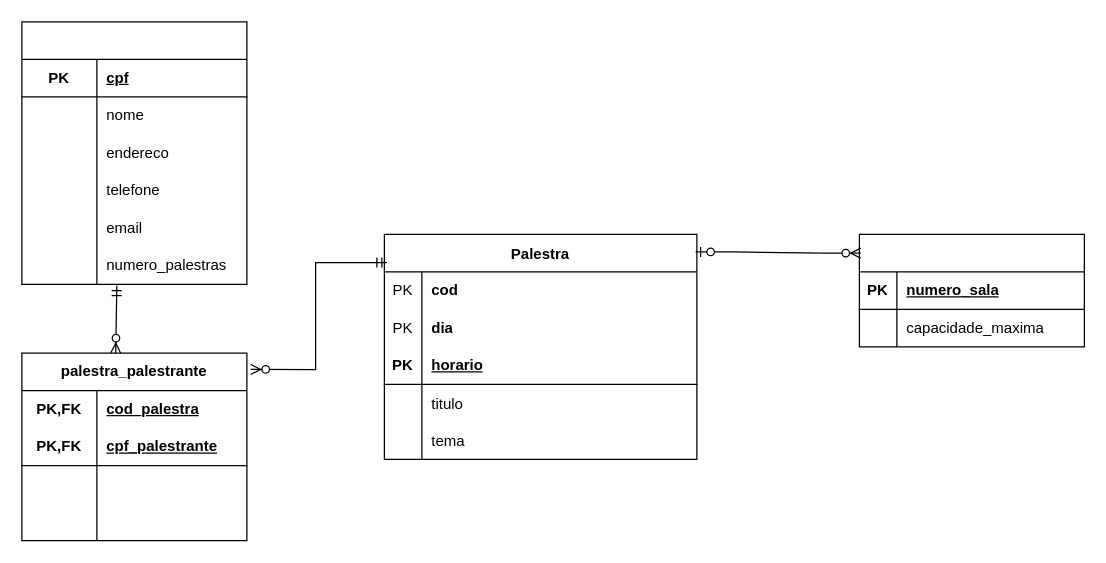
The diagram is 1106 pixels wide and 563 high, and some of its shapes have lost their labels. The shapes that lost their labels are listed below. From the top down, each one's box as (x1, y1, x2, y2) in pixels, then its label:
(21, 21, 247, 284): palestrante
(858, 233, 1084, 347): salas_auditorios
